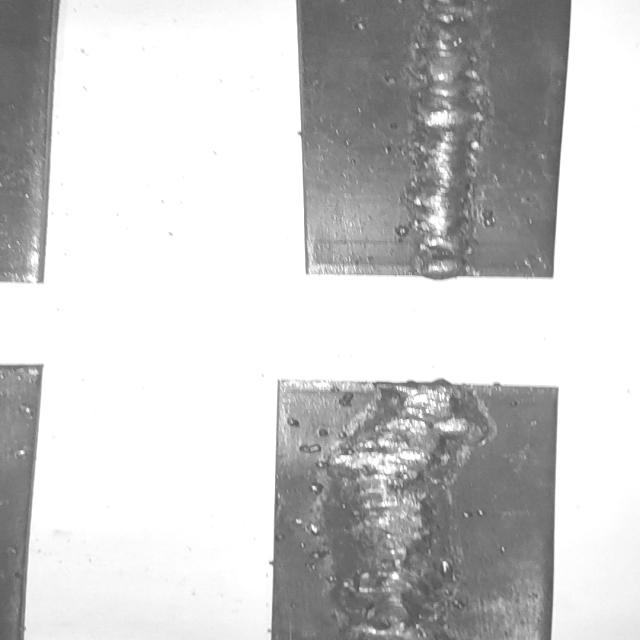Bad Weld: (338, 390, 469, 640)
Defect: (320, 410, 502, 634)
Good Weld: (413, 0, 479, 268)
